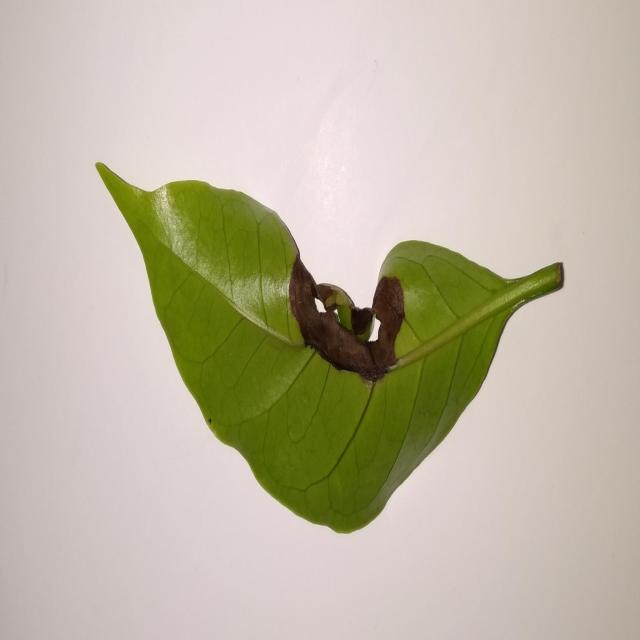Enfermedad-Antracnosis: (94, 164, 565, 537)
